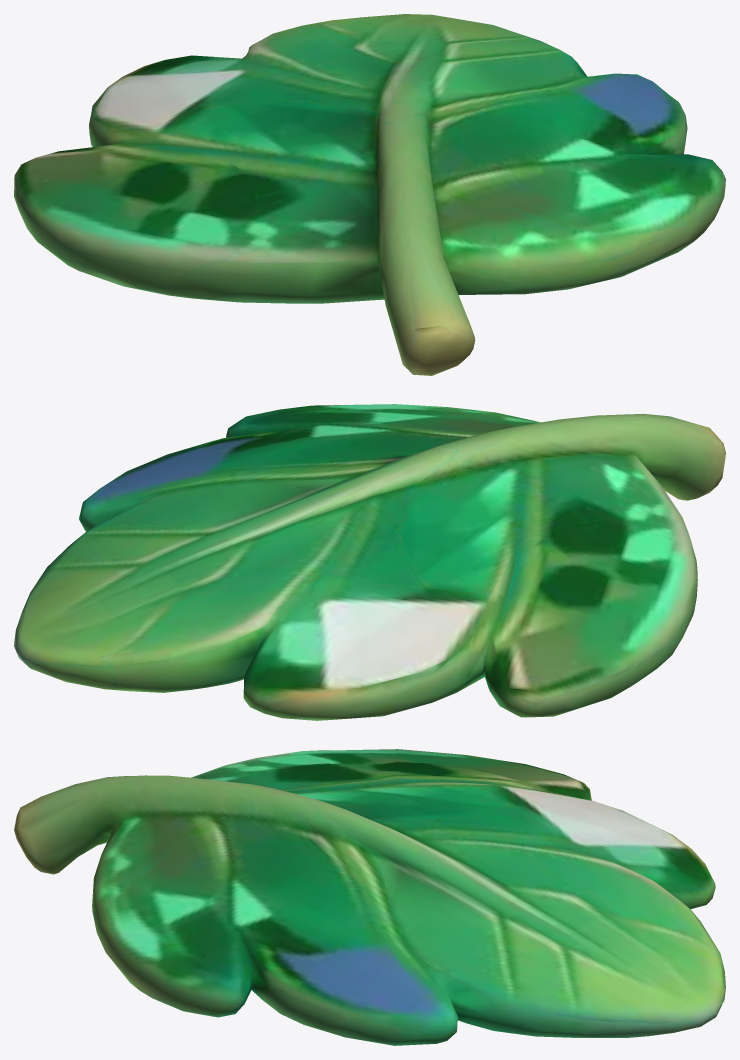
3 views of the same model, one above another, from view 1: azimuth 30°, elevation 25°; view 2: azimuth 150°, elevation 25°; view 3: azimuth 270°, elevation 25° (orthographic). The views are drawn at different scales.
Parts seen in each view (by area): view 1: material; view 2: material; view 3: material.
Part boxes in pixels (x1,y1,x2,y2): material: [14, 14, 725, 375]; material: [14, 404, 725, 720]; material: [14, 749, 725, 1045].
Bounding box in the file's own units: 0.9142 × 0.1868 × 1.
Materials: 1 (1 with a texture image).
